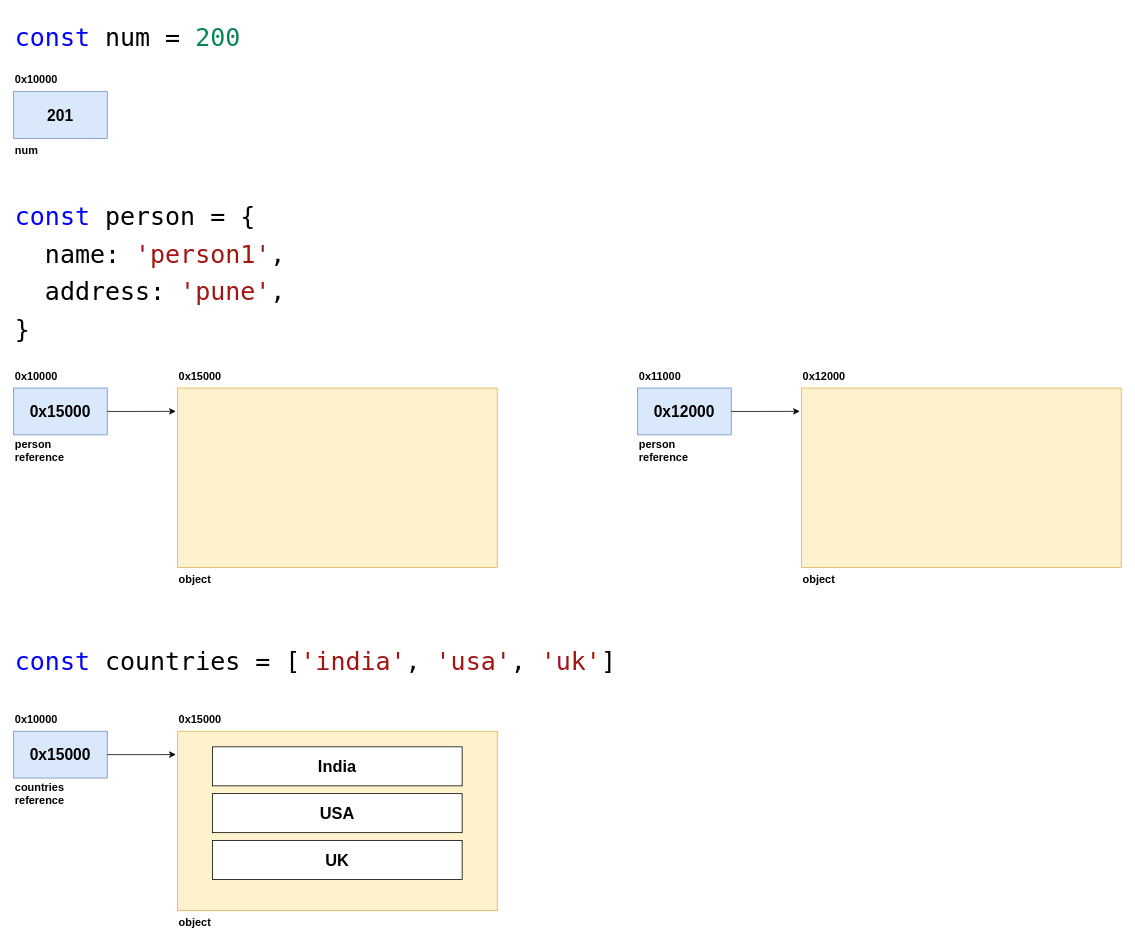
Some shapes in this 1135 by 947 pixel diagram are drawn without their labels. The shapes that lost their labels are listed below. From the top down, each one's centre as x and y in pixels, then its label:
At pixel 337 477: "{ name: 'person2' , address: 'pune' , }".
At pixel 961 477: "{ name: 'person3' , address: 'pune' , }".
